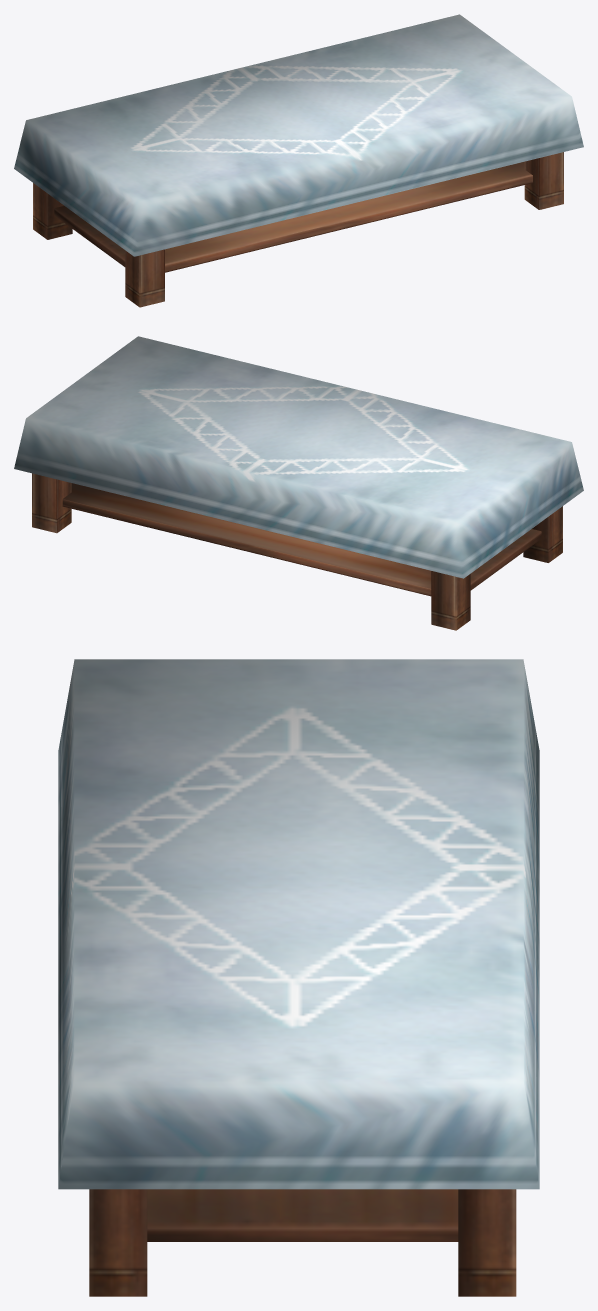
The model's file is a_SWGtable01A_a.glb.
3 views of the same model, one above another, from view 1: azimuth 30°, elevation 25°; view 2: azimuth 150°, elevation 25°; view 3: azimuth 270°, elevation 25° (orthographic). The views are drawn at different scales.
Visible parts, largest first — view 1: a_SWGtable01A_a; view 2: a_SWGtable01A_a; view 3: a_SWGtable01A_a.
Boxes of the visible parts, x1,y1,x2,y2 form: a_SWGtable01A_a: [14, 14, 583, 307]; a_SWGtable01A_a: [14, 336, 583, 630]; a_SWGtable01A_a: [58, 659, 539, 1296].
Bounding box in the file's own units: 2.51 × 0.5822 × 1.16.
Materials: 2 (2 with a texture image).
